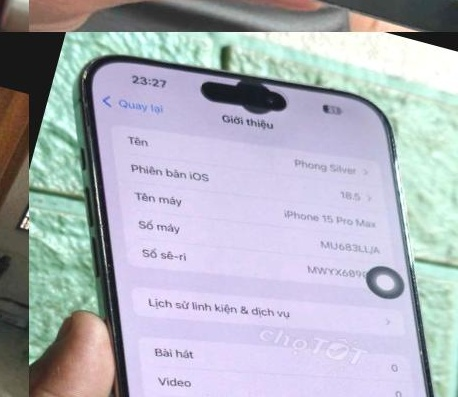screen_defect: (187, 59, 293, 138)
